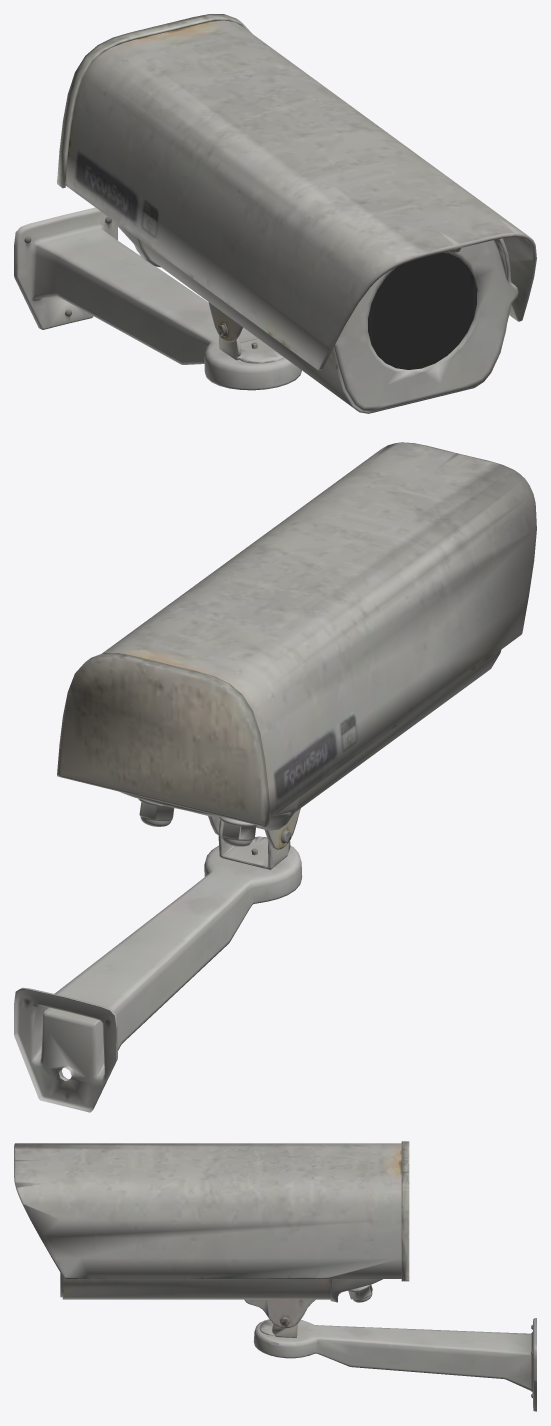
File: security_camera_rig.glb
The picture shows the model from 3 angles, top to bottom: view 1: azimuth 30°, elevation 25°; view 2: azimuth 150°, elevation 25°; view 3: azimuth 270°, elevation 25°; orthographic projection. The views are drawn at different scales.
Parts seen in each view (by area): view 1: camera_head, security_camera.003; view 2: camera_head, security_camera.003; view 3: camera_head, security_camera.003.
Boxes of the visible parts, x1=… form: camera_head: x1=57, y1=14, x2=536, y2=413; security_camera.003: x1=14, y1=207, x2=301, y2=390; camera_head: x1=57, y1=442, x2=536, y2=849; security_camera.003: x1=14, y1=820, x2=302, y2=1112; camera_head: x1=14, y1=1141, x2=409, y2=1327; security_camera.003: x1=253, y1=1316, x2=536, y2=1411.
Size of the model in its own units: 0.1695 by 0.286 by 0.5537.
2 materials, 2 textured.
